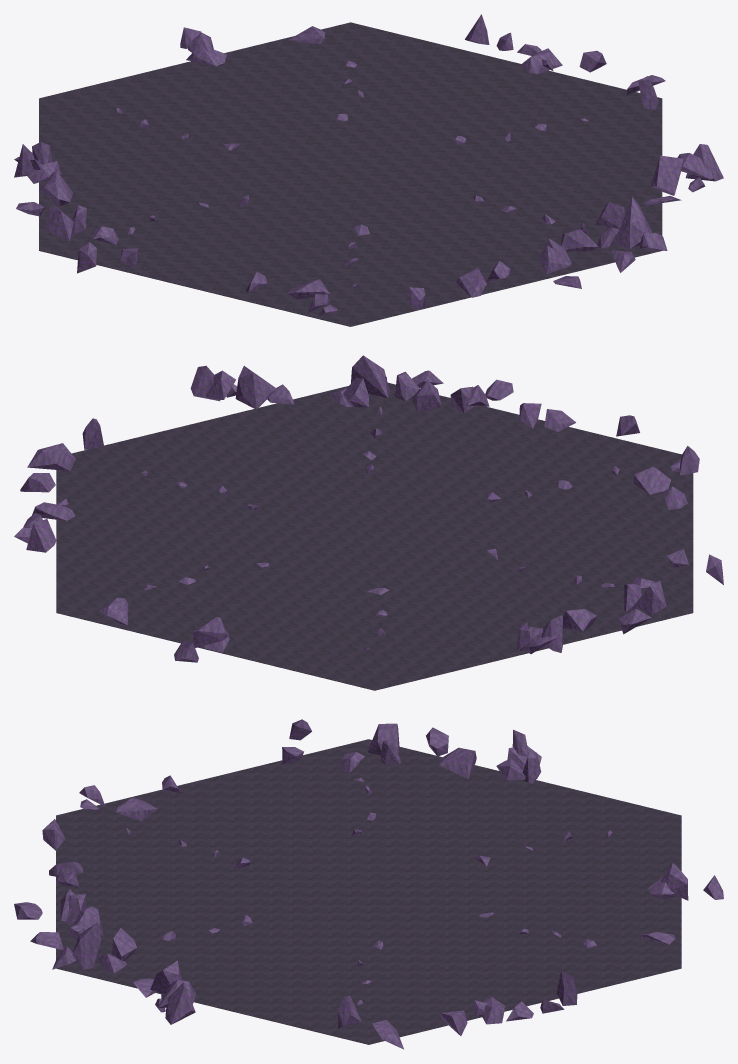
Rendered from env_ground.glb.
The picture shows the model from 3 angles, top to bottom: view 1: azimuth 30°, elevation 25°; view 2: azimuth 150°, elevation 25°; view 3: azimuth 270°, elevation 25°; orthographic projection. The views are drawn at different scales.
Parts seen in each view (by area): view 1: env_ground; view 2: env_ground; view 3: env_ground.
Boxes of the visible parts, bbox=[...] form: env_ground: bbox=[14, 14, 723, 326]; env_ground: bbox=[14, 355, 723, 690]; env_ground: bbox=[14, 719, 723, 1049].
Size of the model in its own units: 376 by 23.56 by 364.
2 materials, 2 textured.
